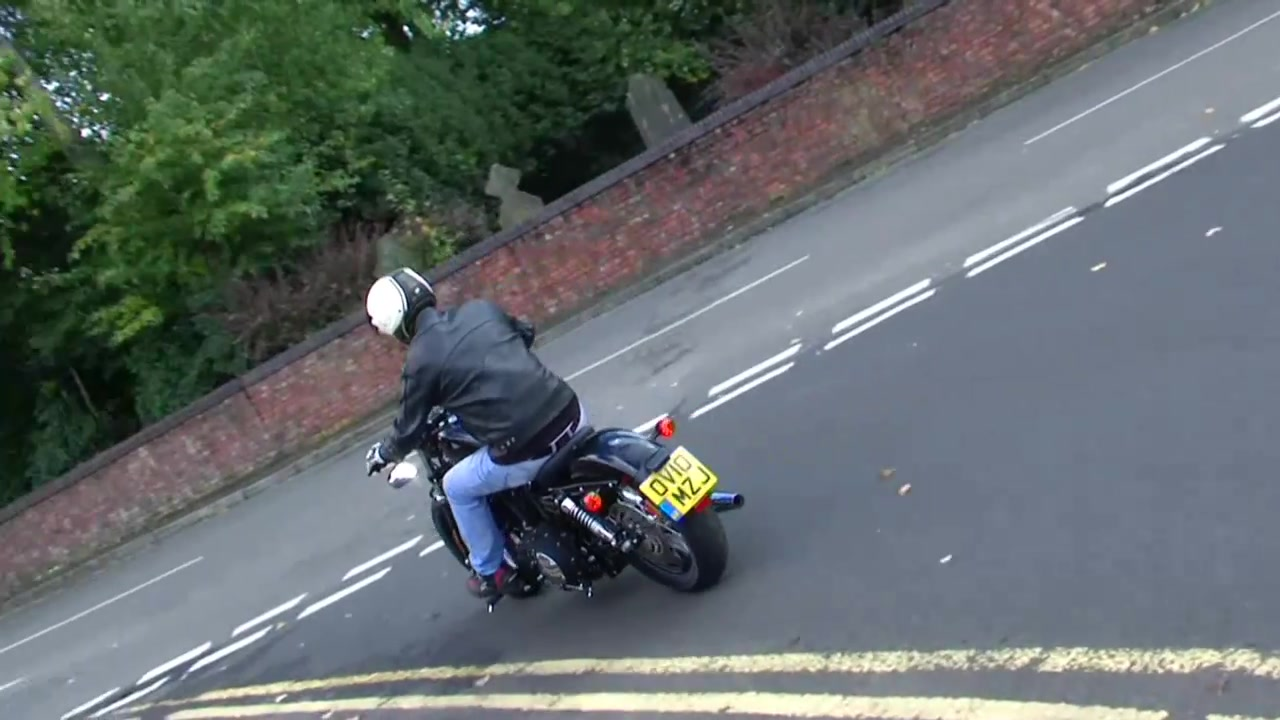motorbike: (390, 411, 745, 602)
